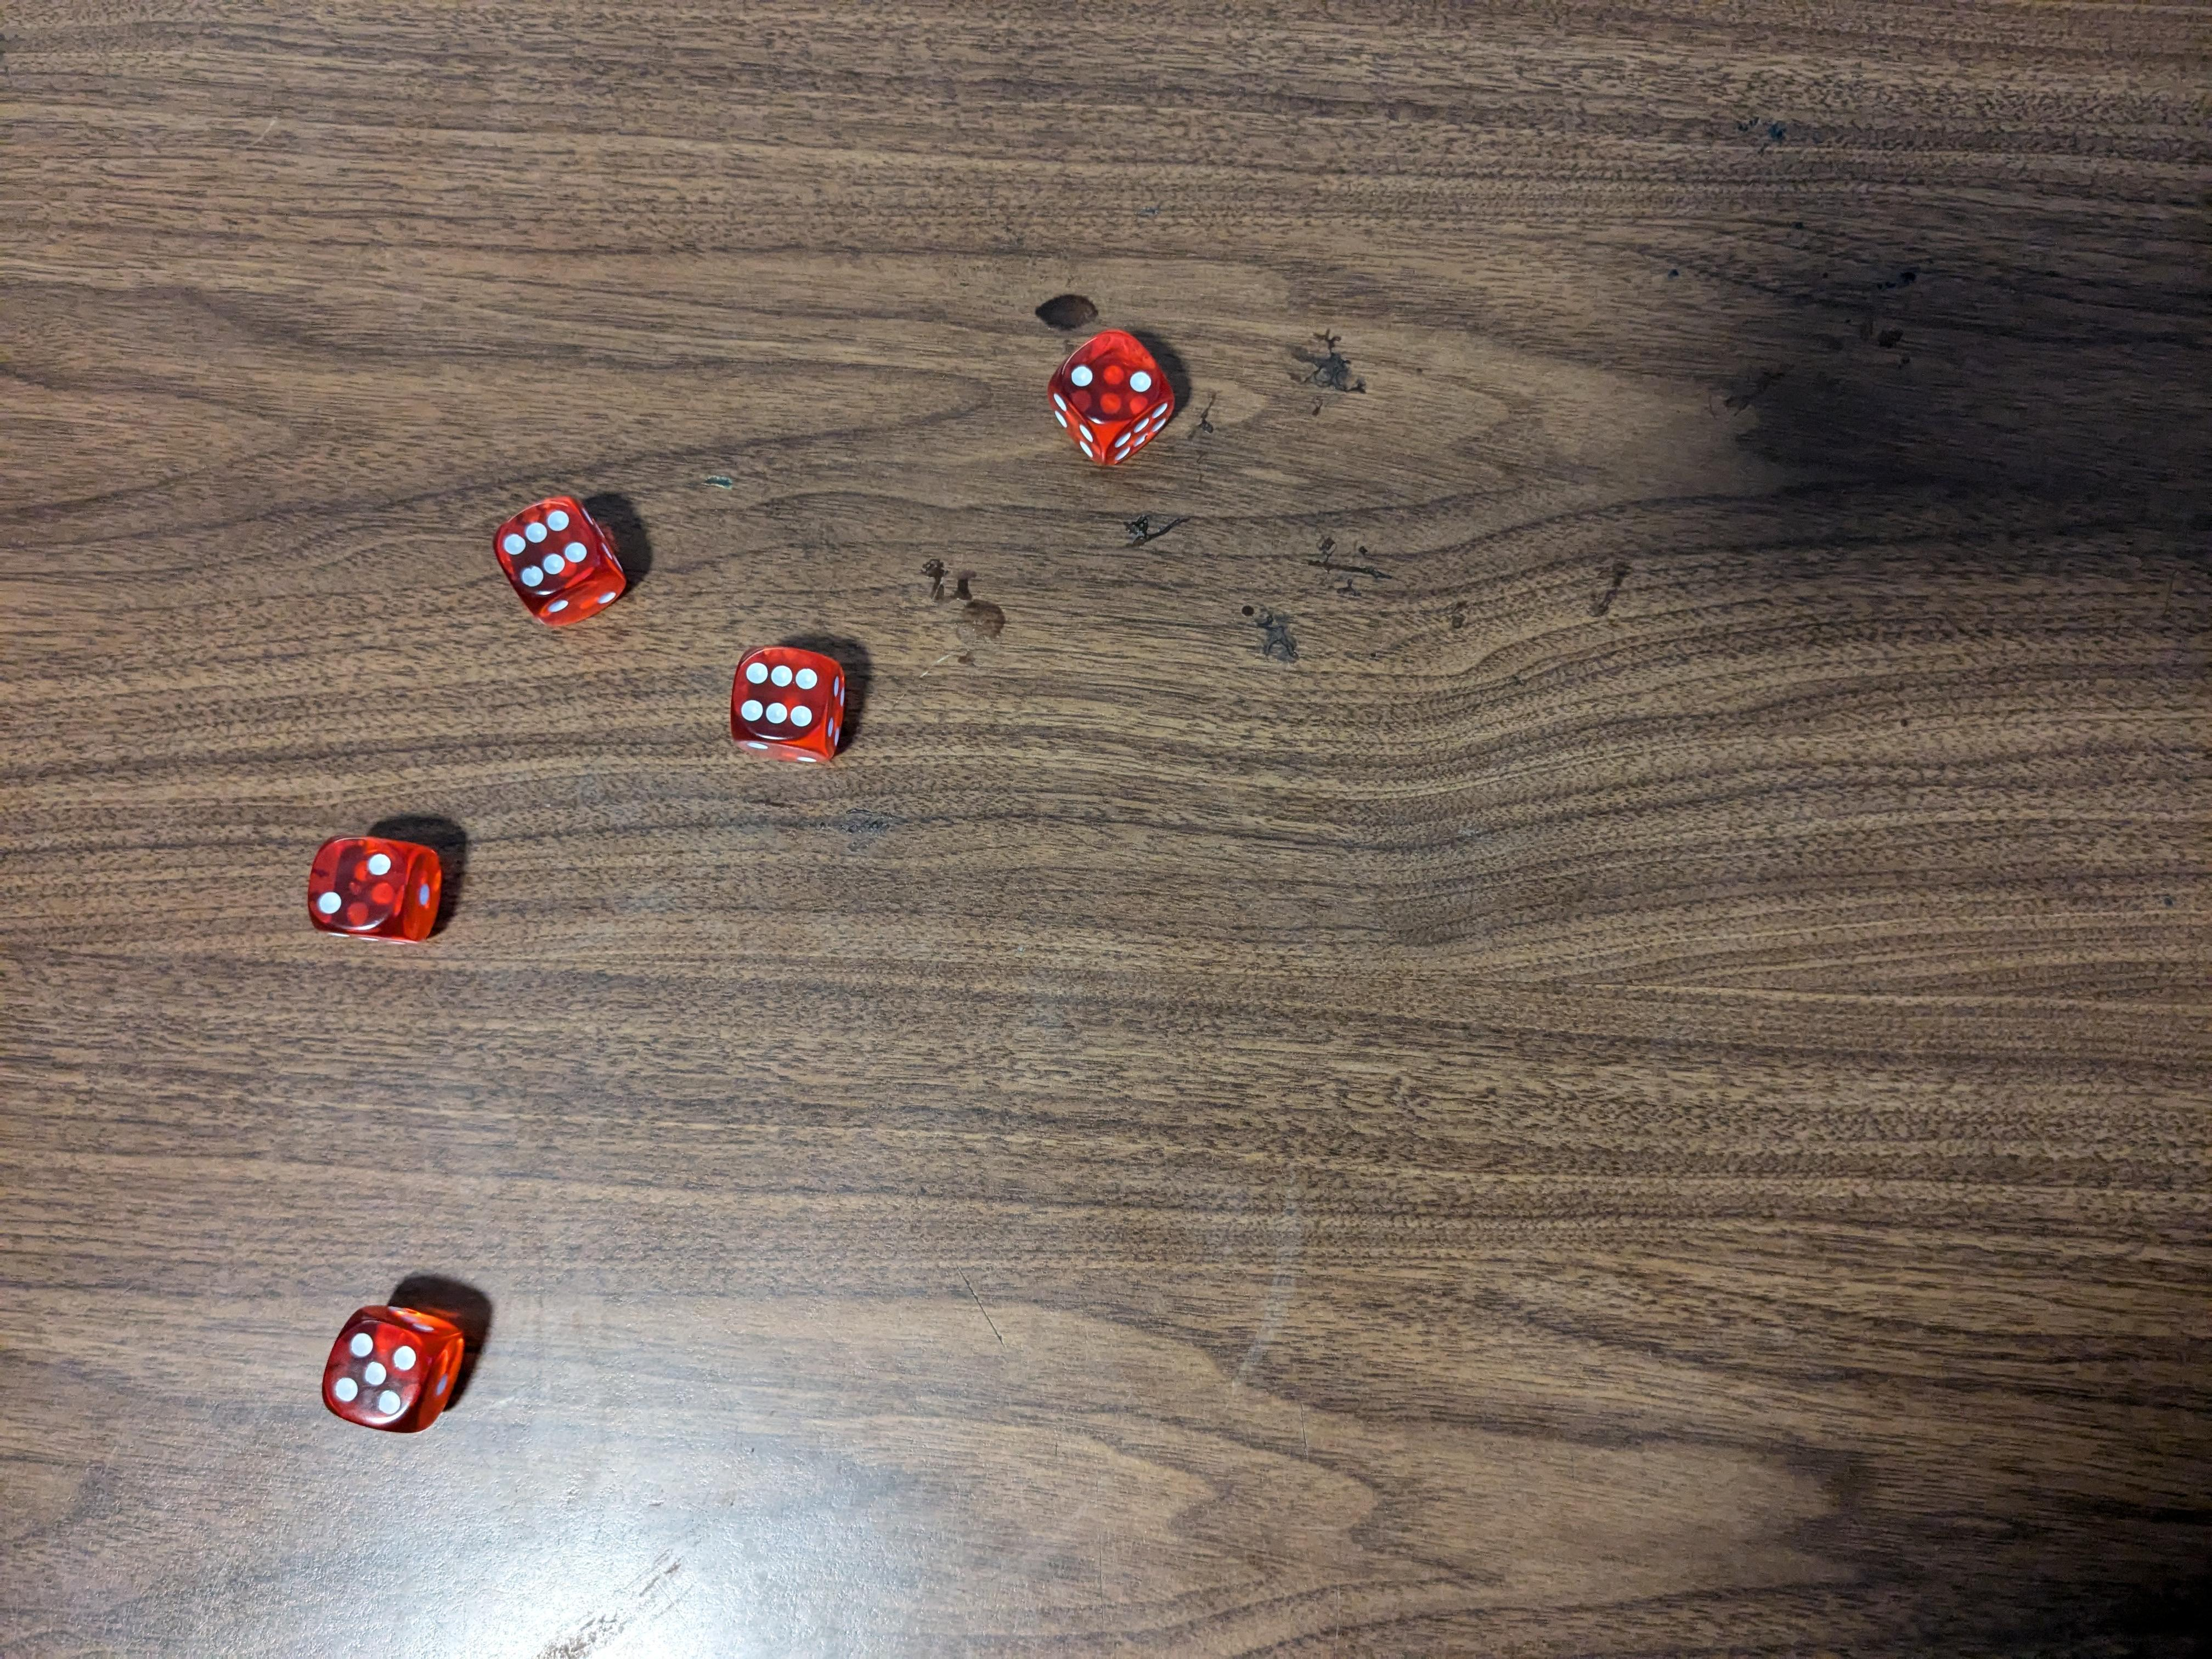five: (319, 1300, 465, 1438)
six: (486, 490, 632, 633), (723, 640, 857, 775)
two: (1042, 328, 1186, 471), (300, 835, 446, 951)
